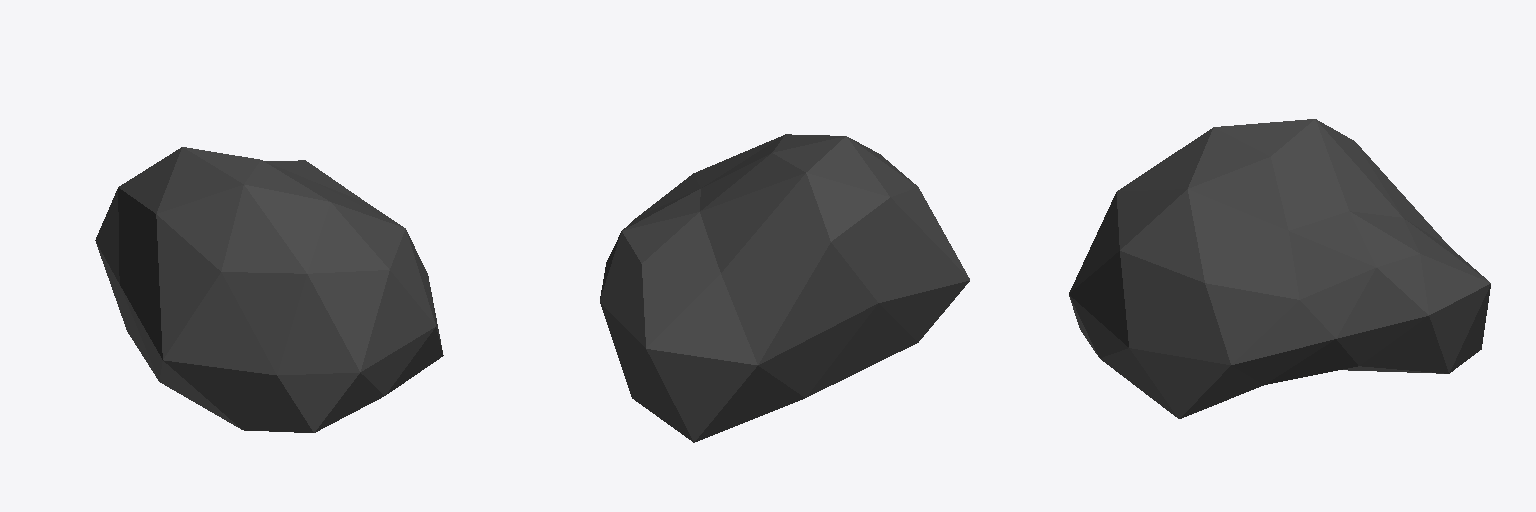
File: rock_2.obj
The picture shows the model from 3 angles: view 1: azimuth 30°, elevation 25°; view 2: azimuth 150°, elevation 25°; view 3: azimuth 270°, elevation 25°; orthographic projection.
Visible parts, largest first — view 1: r2_Icosphere.002; view 2: r2_Icosphere.002; view 3: r2_Icosphere.002.
Part boxes in pixels (x1,y1,x2,y2): r2_Icosphere.002: (95,147,443,432); r2_Icosphere.002: (600,134,969,442); r2_Icosphere.002: (1069,119,1490,418).
Bounding box in the file's own units: 2.35 × 1.67 × 2.91.